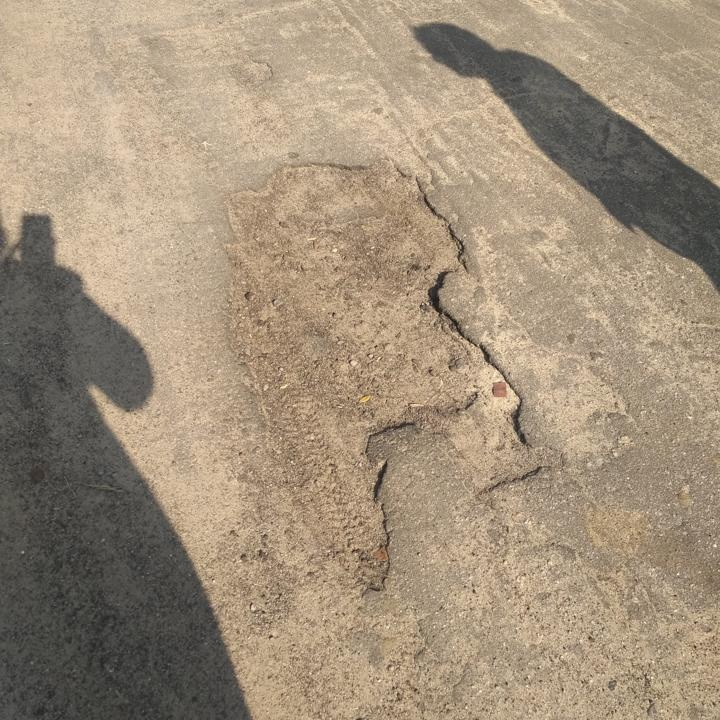pothole: (215, 149, 566, 594)
